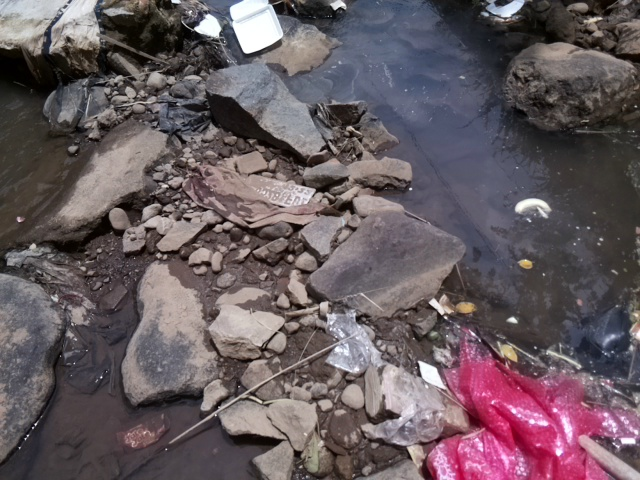Sampah_Plastik: (429, 333, 620, 480), (321, 309, 387, 374), (357, 407, 446, 448), (578, 307, 633, 351), (162, 98, 208, 133)
Sampah_Styrofoam: (225, 1, 288, 55)
